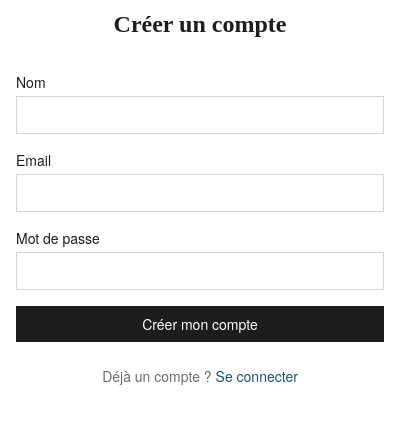
Test: SignUpPage — erreur réseau › affiche un message générique si la requête échoue (fetch throw)
Type "Alice Dupont" into the field labelled "Nom".
click(200, 115); type("Alice Dupont")  # box [16,96,384,134]
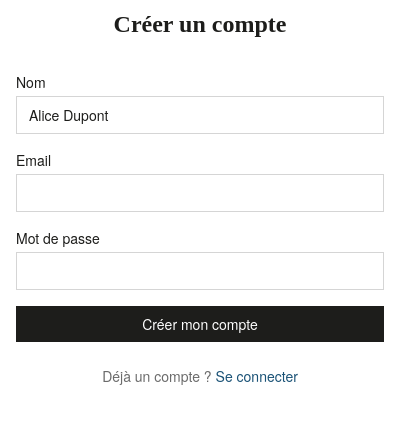
Type "alice@example.com" into the field labelled "Email".
click(200, 193); type("alice@example.com")  # box [16,174,384,212]
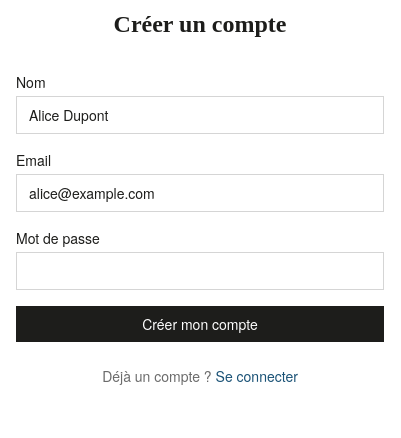
Type "secret123" into the password field labelled "Mot de passe".
click(200, 271); type("secret123")  # box [16,252,384,290]
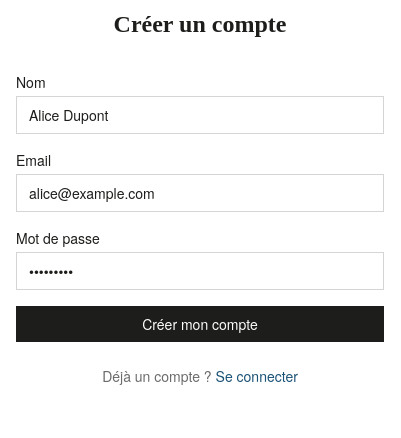
Click the button "Créer mon compte".
click(200, 324)  # box [16,306,384,342]
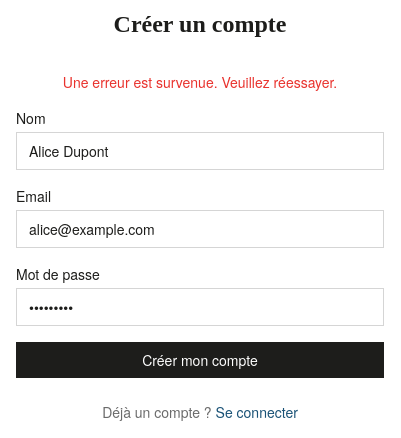
Now the text "Une erreur est survenue. Veuillez réessayer." is shown, box [63,72,337,92]
